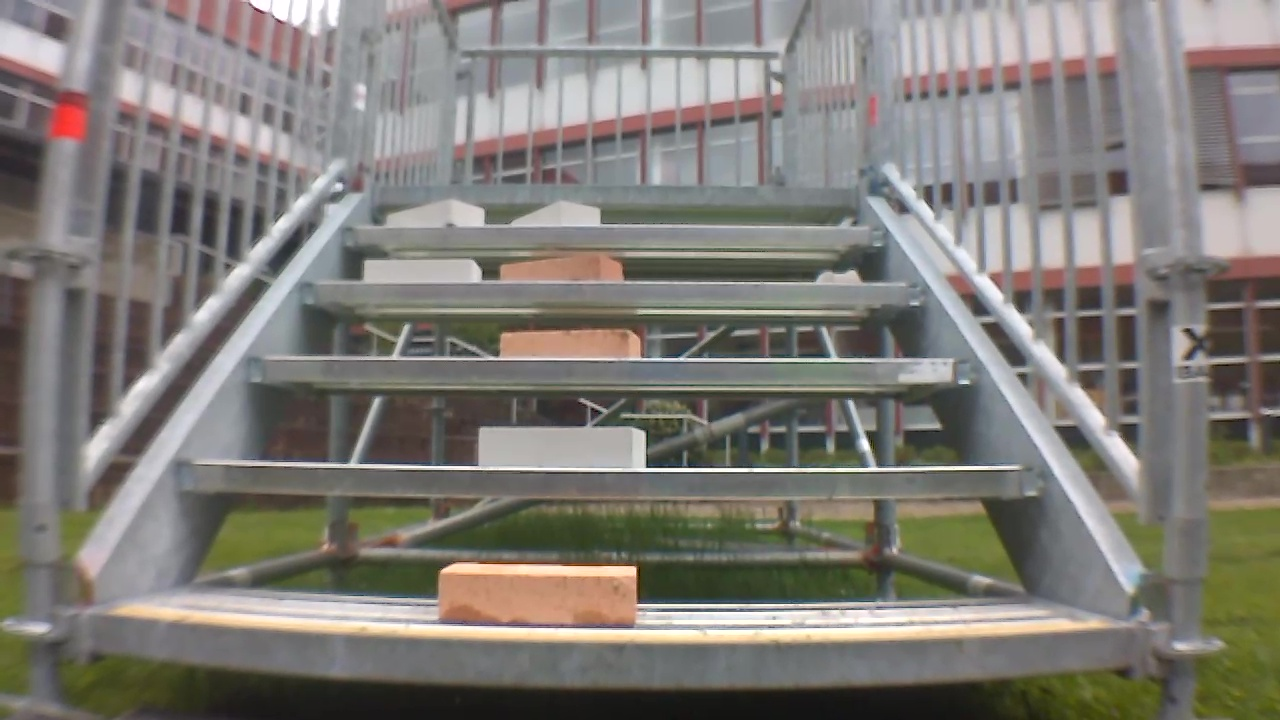brick: (438, 563, 637, 628), (479, 427, 644, 468), (500, 329, 639, 358), (501, 254, 620, 282), (365, 259, 481, 281), (384, 201, 484, 226), (510, 203, 599, 223)
edge: (96, 613, 1130, 685), (177, 465, 1042, 498), (247, 357, 978, 384), (303, 282, 923, 305), (375, 184, 861, 206), (341, 226, 884, 245)
stairs: (6, 5, 1225, 718)
steps: (85, 180, 1137, 697)
